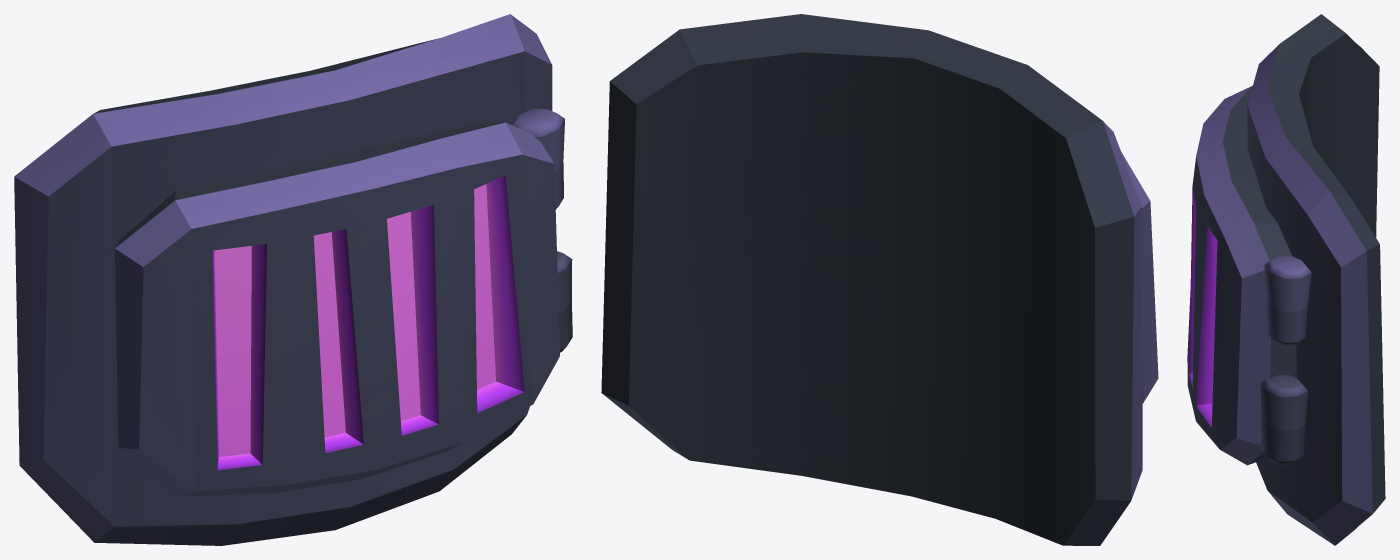
File: undead_oven_door.fbx
The picture shows the model from 3 angles, left to right: view 1: azimuth 30°, elevation 25°; view 2: azimuth 150°, elevation 25°; view 3: azimuth 270°, elevation 25°; orthographic projection. The views are drawn at different scales.
Visible parts, largest first — view 1: undead_oven_door; view 2: undead_oven_door; view 3: undead_oven_door.
Part boxes in pixels (x1,y1,x2,y2): undead_oven_door: (14,14,572,545); undead_oven_door: (601,14,1158,545); undead_oven_door: (1187,14,1385,545).
Bounding box in the file's own units: 2.51 × 2.08 × 0.9753.
